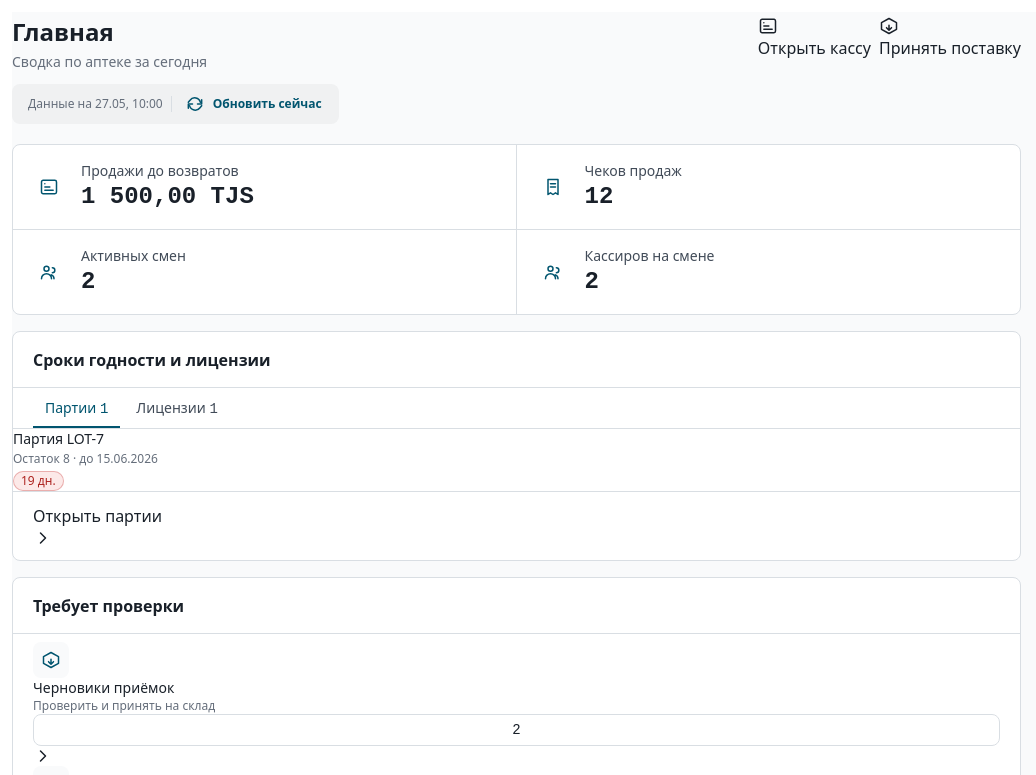
Test: DashboardPage › bypasses the server cache for an explicit refresh
Expected: the text "1 500,00 TJS" is shown, [81,181,254,213]
Click the button with aria-label "Обновить сводку".
click(253, 104)  # box [176,88,331,120]
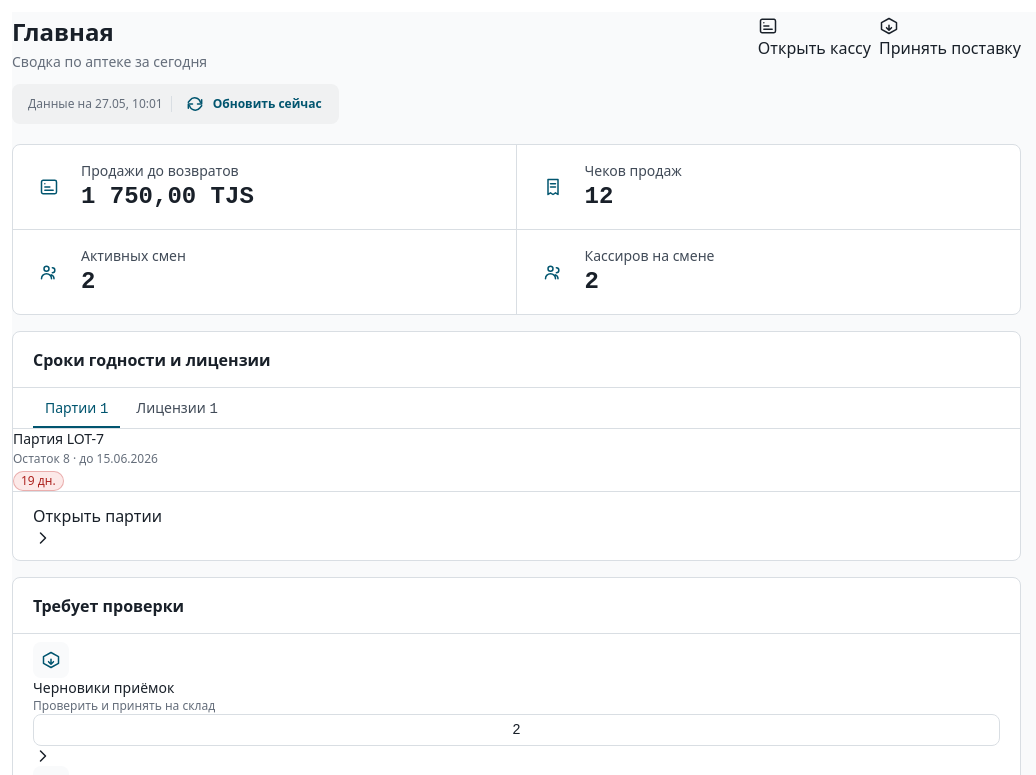
Result: the text "1 750,00 TJS" is shown at [81,181,254,213]
